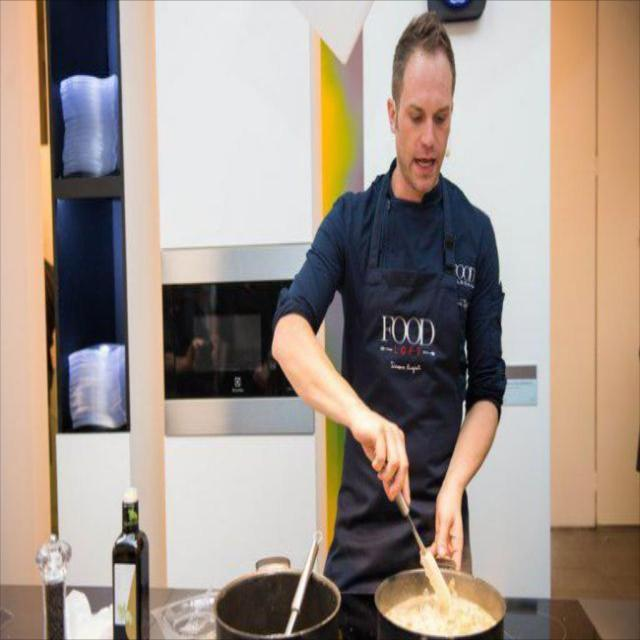no_helmet: (344, 122, 469, 225)
